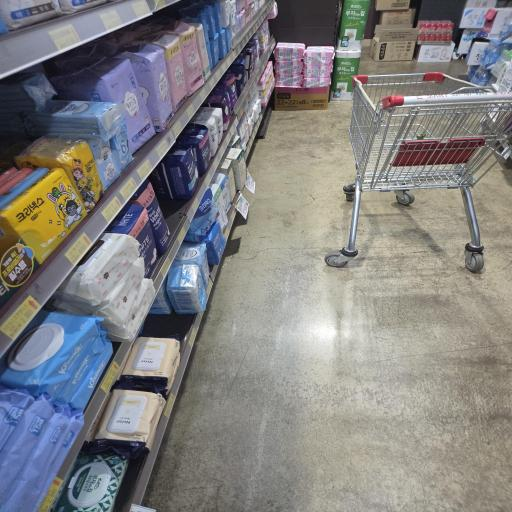empty_cart: (326, 69, 512, 264)
